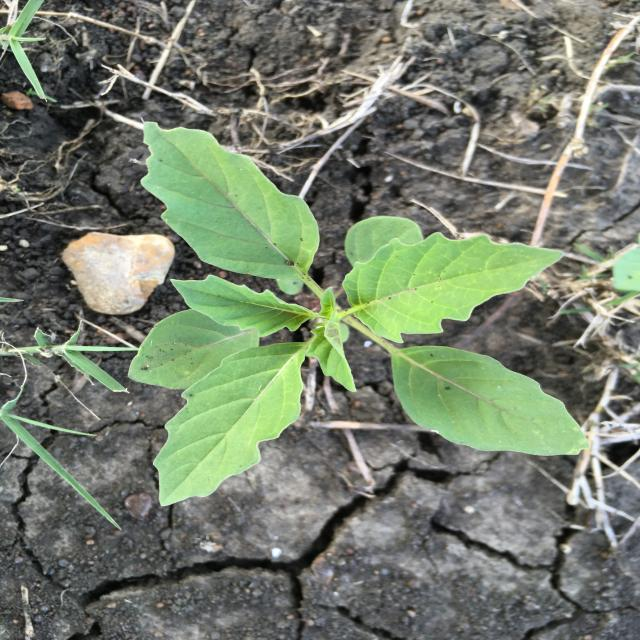CutleafGroundcherry: (123, 120, 593, 510)
